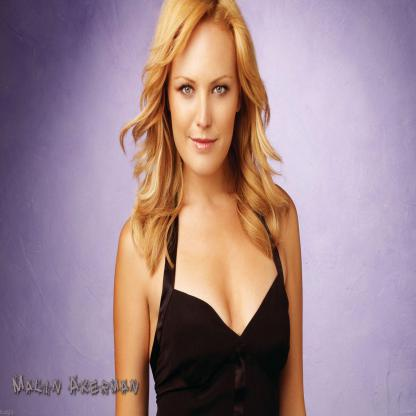long-hair: (125, 177, 284, 220)
